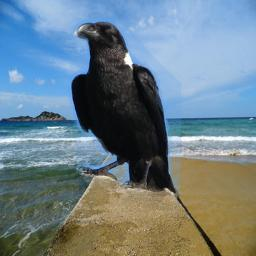Crow: (68, 18, 181, 198)
